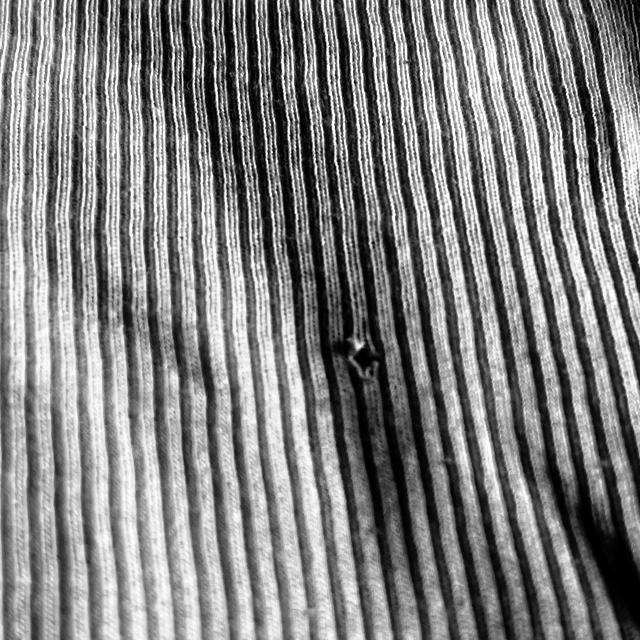Hole: (332, 332, 392, 382)
